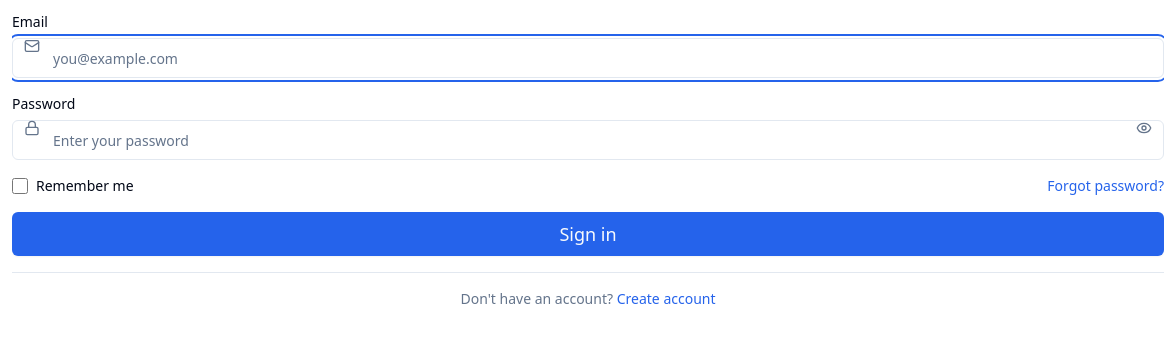
Scenario: LoginForm › Form Validation › should clear password error when user starts typing
Type "test@example.com" into the field labelled "Email". click: coordinates (588, 58)
box: [12,38,1164,78]
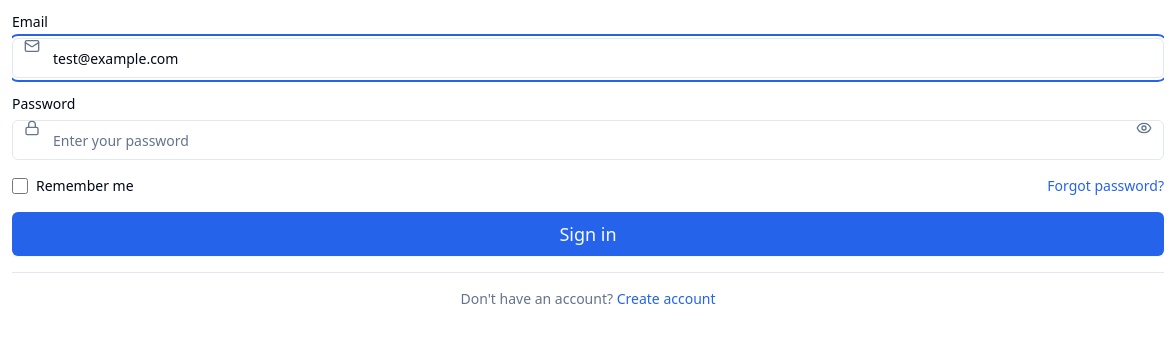
// Submit to trigger validation
Click the button "Sign in". click: coordinates (588, 234)
box: [12,212,1164,256]
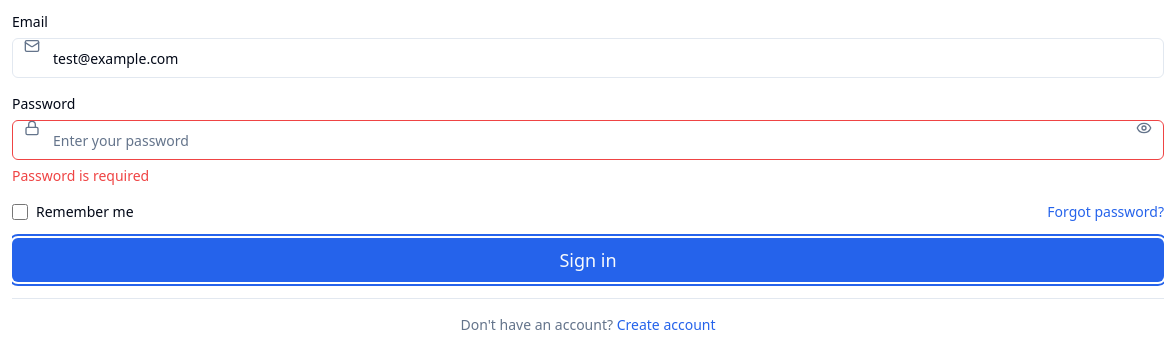
Now the text "Password is required" is shown, box [12,166,149,185]
// Start typing
Type "p" into the password field labelled "Password". click: coordinates (588, 140)
box: [12,120,1164,160]
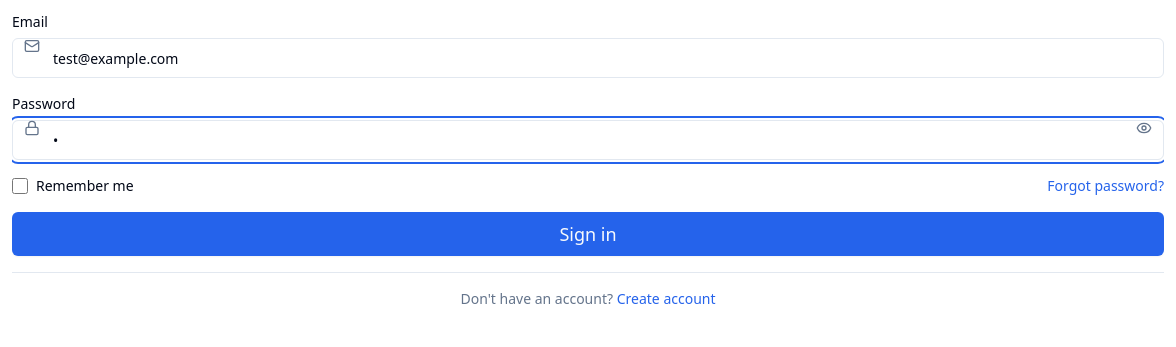
Now the text "Password is required" is gone
